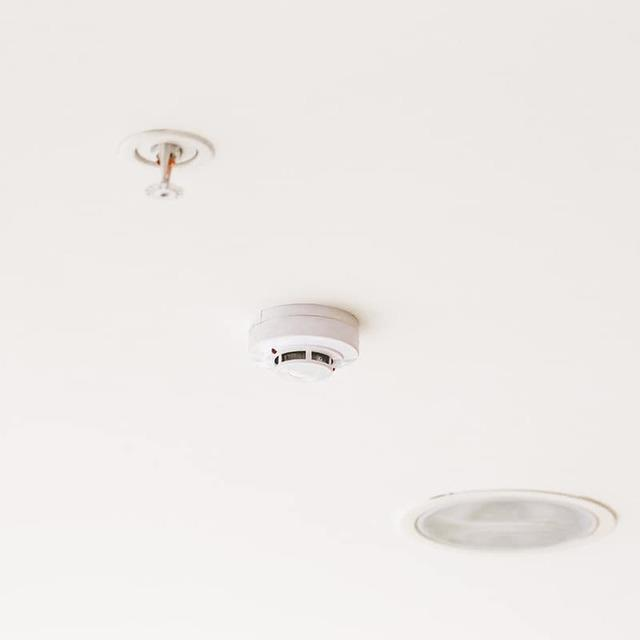Smoke-Detector: (245, 304, 363, 384)
